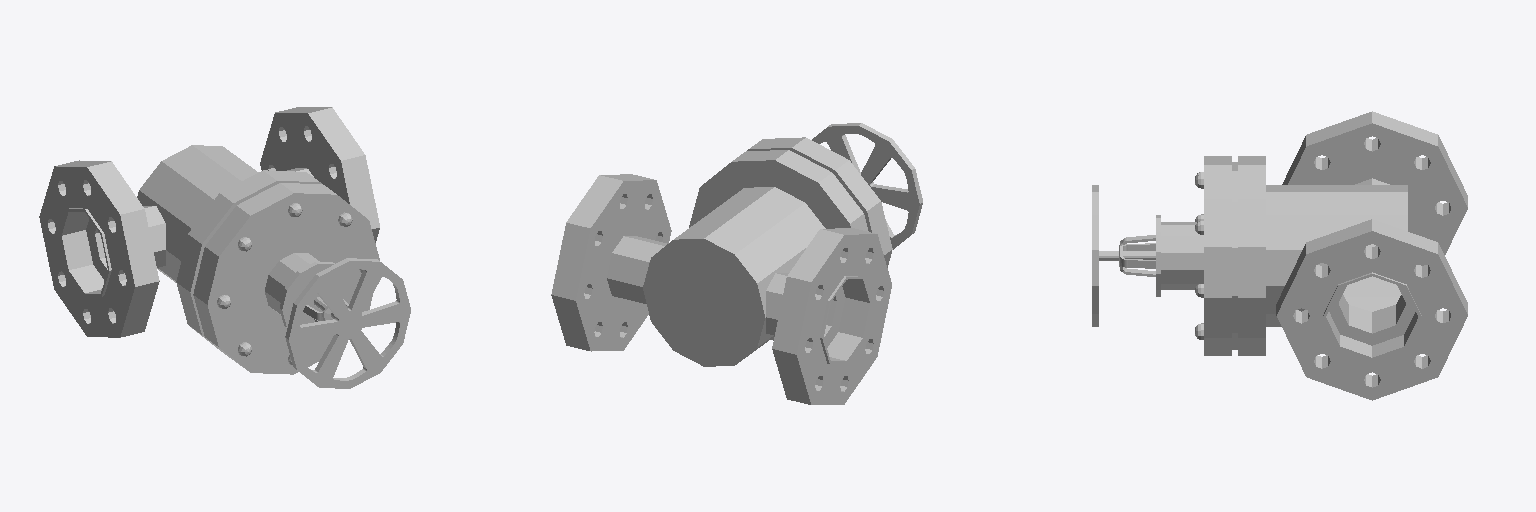
Rendered from famen.obj.
The picture shows the model from 3 angles: view 1: azimuth 30°, elevation 25°; view 2: azimuth 150°, elevation 25°; view 3: azimuth 270°, elevation 25°; orthographic projection.
Parts seen in each view (by area): view 1: famen; view 2: famen; view 3: famen.
Part boxes in pixels (left/top/right/bottom): famen: left=39, top=107, right=410, bottom=388; famen: left=551, top=123, right=922, bottom=404; famen: left=1092, top=111, right=1467, bottom=400.
Size of the model in its own units: 38.76 by 26.87 by 50.5.